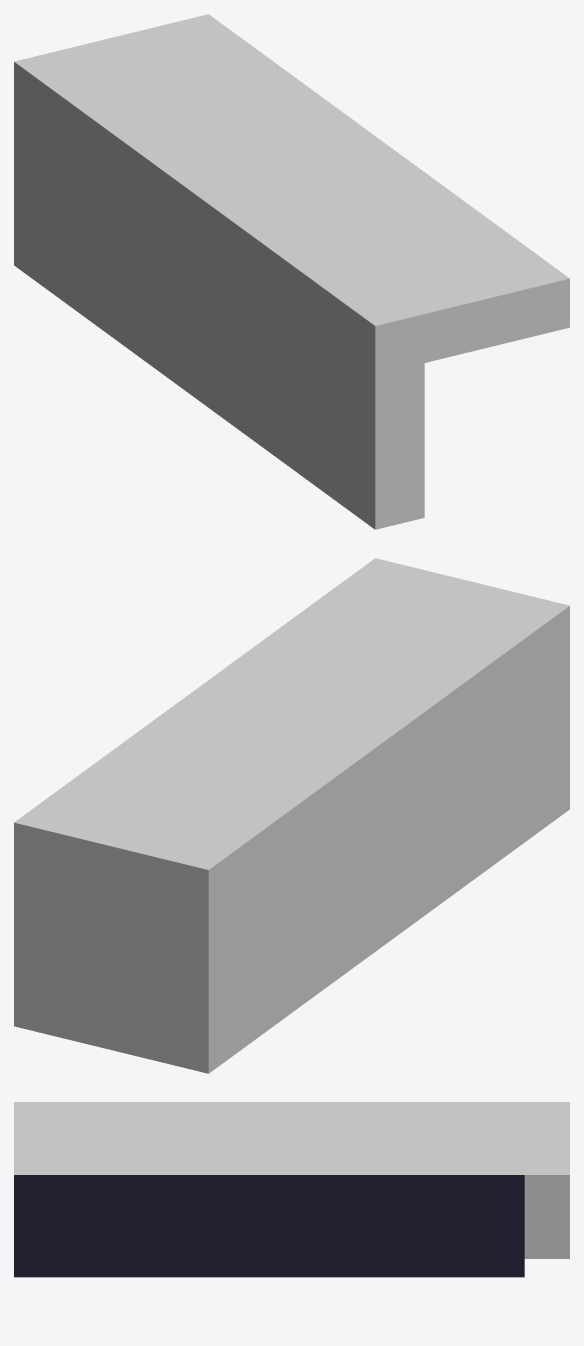
File: 1U Ceiling Corner.fbx
3 views of the same model, one above another, from view 1: azimuth 30°, elevation 25°; view 2: azimuth 150°, elevation 25°; view 3: azimuth 270°, elevation 25° (orthographic). The views are drawn at different scales.
Visible parts, largest first — view 1: 1U Ceiling Corner; view 2: 1U Ceiling Corner; view 3: 1U Ceiling Corner.
Boxes of the visible parts, <box> form: 1U Ceiling Corner: <box>14,14,569,529</box>; 1U Ceiling Corner: <box>14,558,569,1073</box>; 1U Ceiling Corner: <box>14,1102,569,1277</box>.
Bounding box in the file's own units: 249 × 249 × 799.
